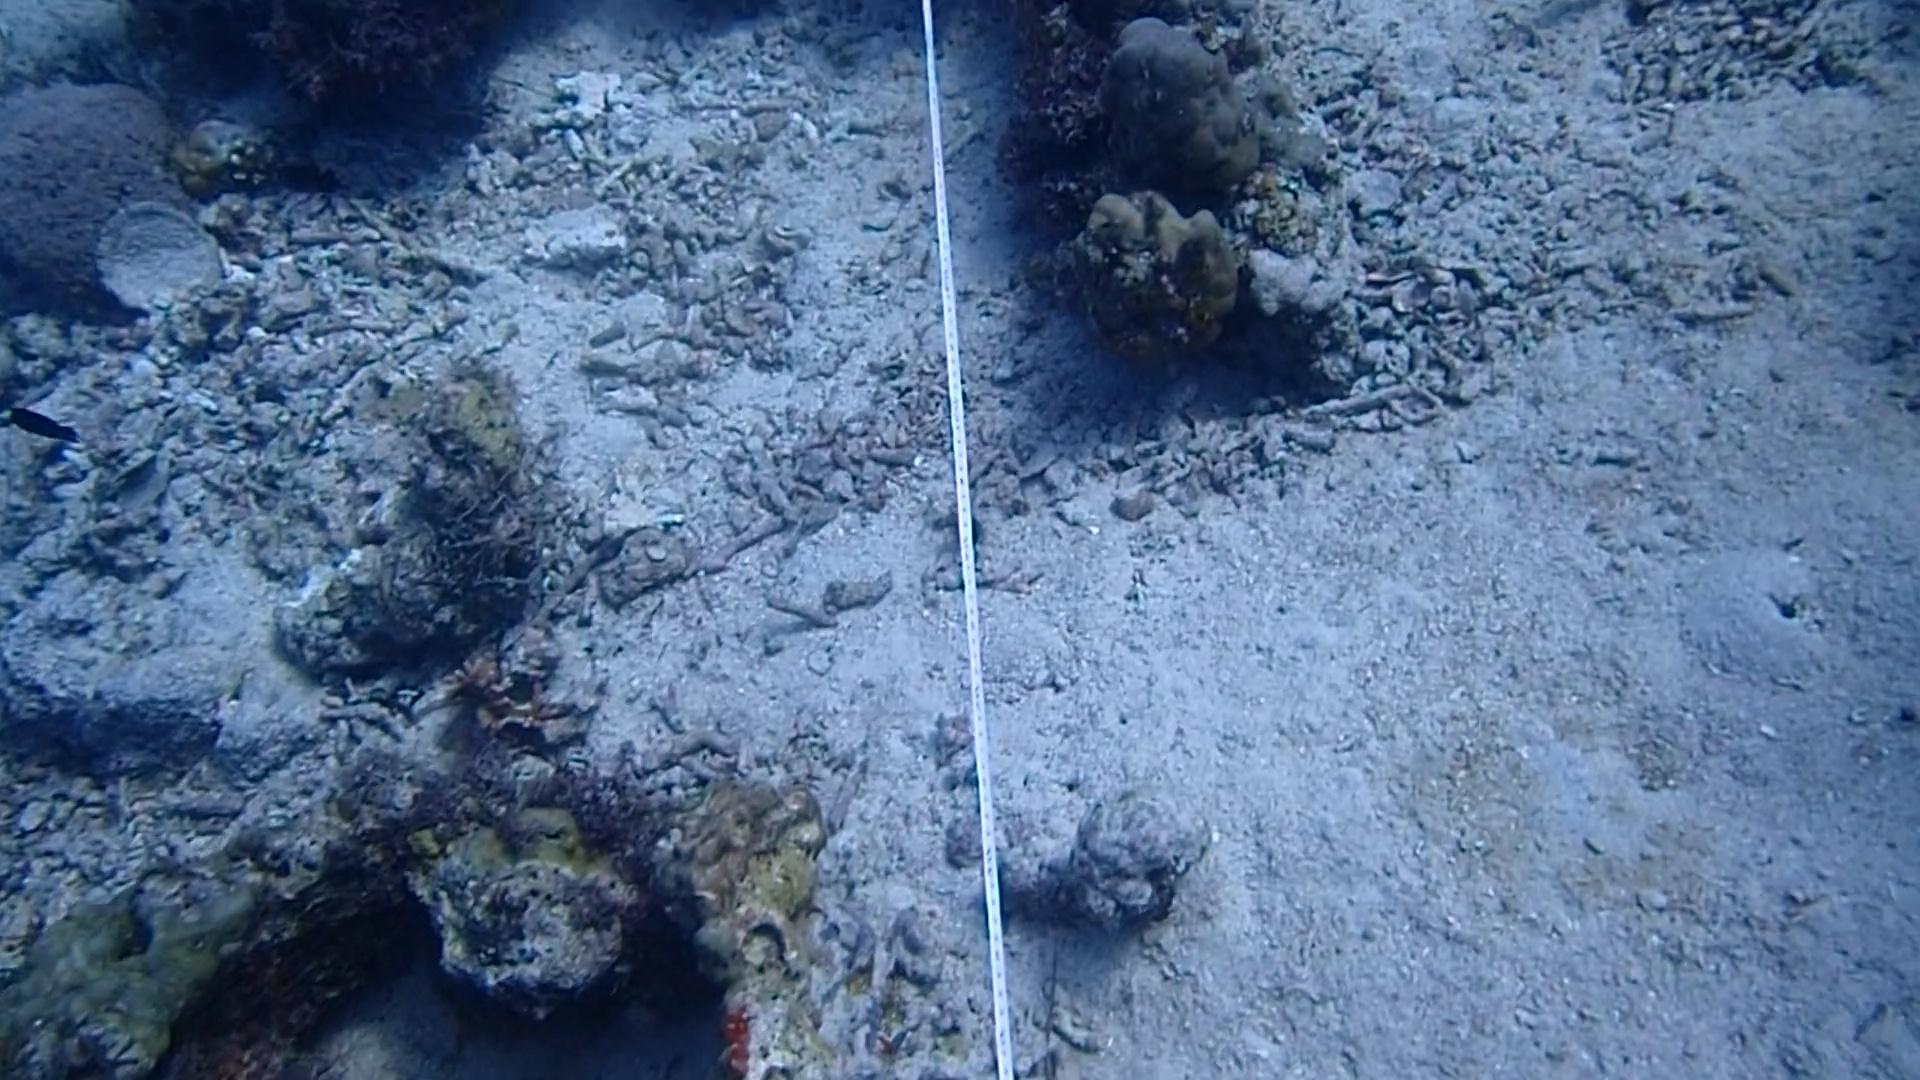Dark Fish: (7, 398, 96, 459), (269, 157, 343, 199)
